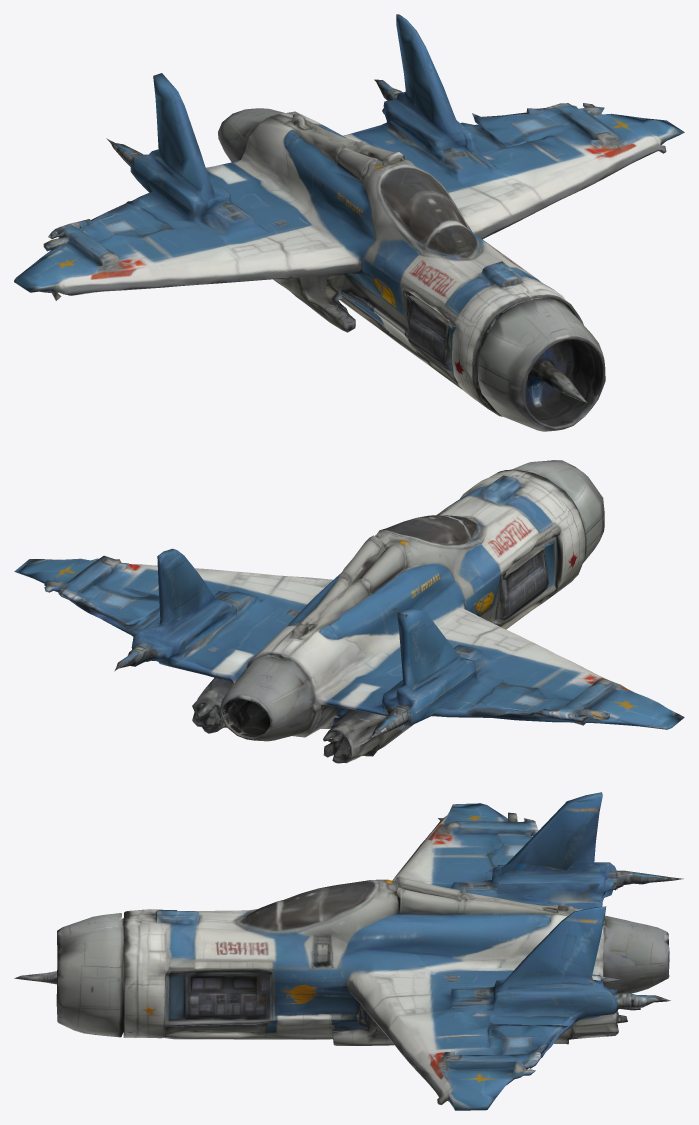
The model's file is blue2.gltf.
3 renders of one model, top to bottom at view 1: azimuth 30°, elevation 25°; view 2: azimuth 150°, elevation 25°; view 3: azimuth 270°, elevation 25°, orthographic. The views are drawn at different scales.
Size of the model in its own units: 1.99 by 0.5702 by 1.84.
Materials: 1 (1 with a texture image).
